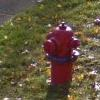Hydrant: (35, 13, 82, 83)
